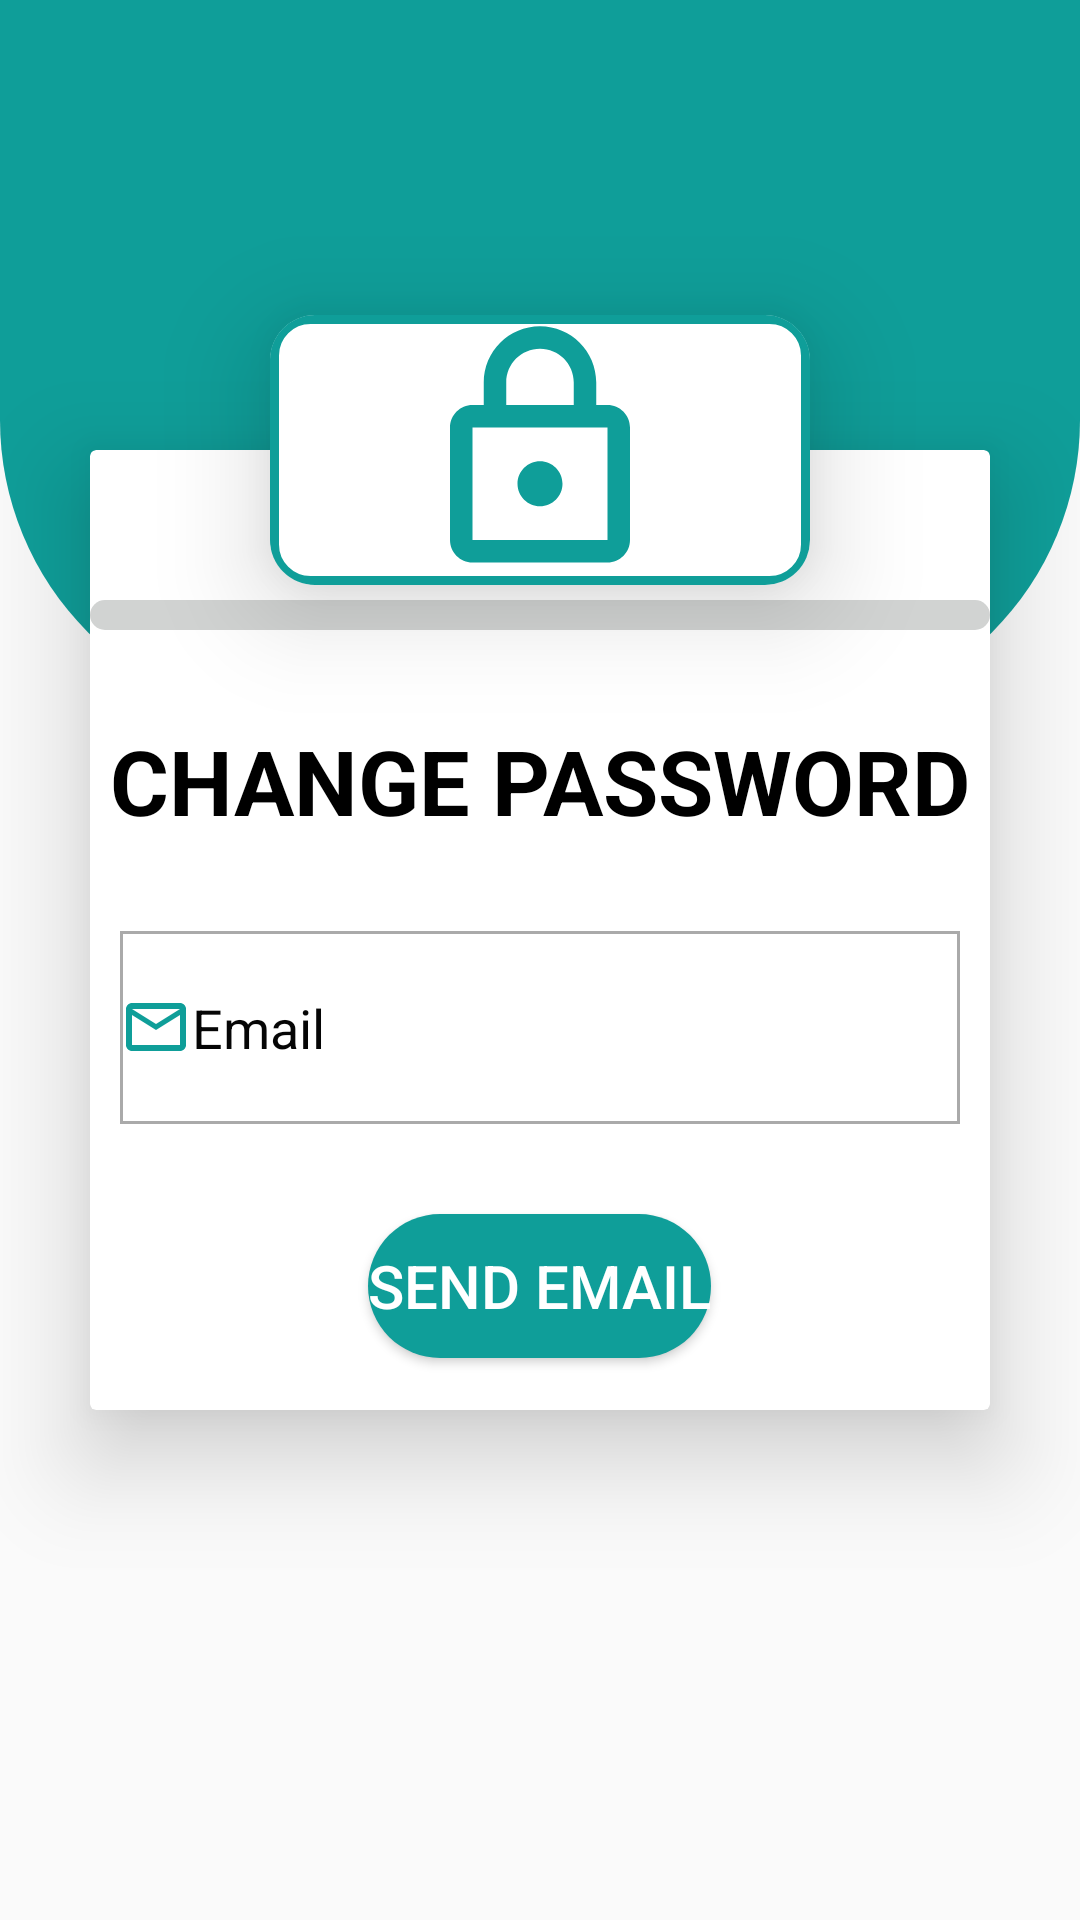

Icon click points for this 1080*1920 phone screenshot, format (x,y):
lock: (540,450)
